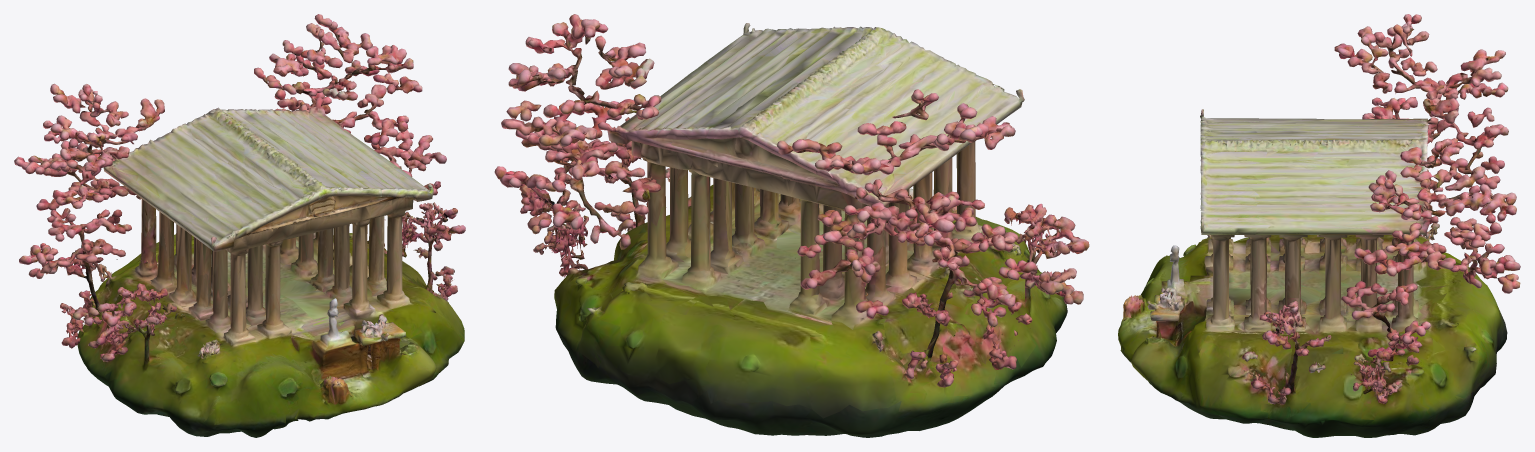
File: _Greece_A_floating_i.glb
The picture shows the model from 3 angles, left to right: view 1: azimuth 30°, elevation 25°; view 2: azimuth 150°, elevation 25°; view 3: azimuth 270°, elevation 25°; orthographic projection. The views are drawn at different scales.
Parts seen in each view (by area): view 1: _Greece_A_floating_i; view 2: _Greece_A_floating_i; view 3: _Greece_A_floating_i.
Part boxes in pixels (bbox=[...]): _Greece_A_floating_i: bbox=[14, 14, 465, 437]; _Greece_A_floating_i: bbox=[494, 14, 1089, 437]; _Greece_A_floating_i: bbox=[1118, 14, 1520, 437].
Size of the model in its own units: 1.99 by 1.44 by 1.63.
Materials: 1 (1 with a texture image).
